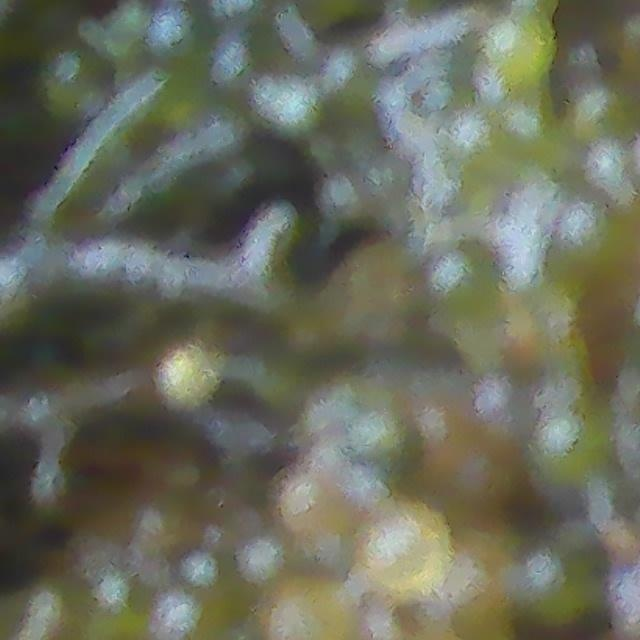SeaGrape: (357, 496, 456, 600), (548, 198, 628, 282), (525, 410, 606, 491), (422, 244, 505, 321), (509, 546, 597, 616), (261, 578, 352, 640), (479, 10, 555, 81), (40, 59, 113, 123), (498, 97, 558, 170), (253, 73, 320, 135), (561, 85, 631, 143), (145, 4, 194, 53)
